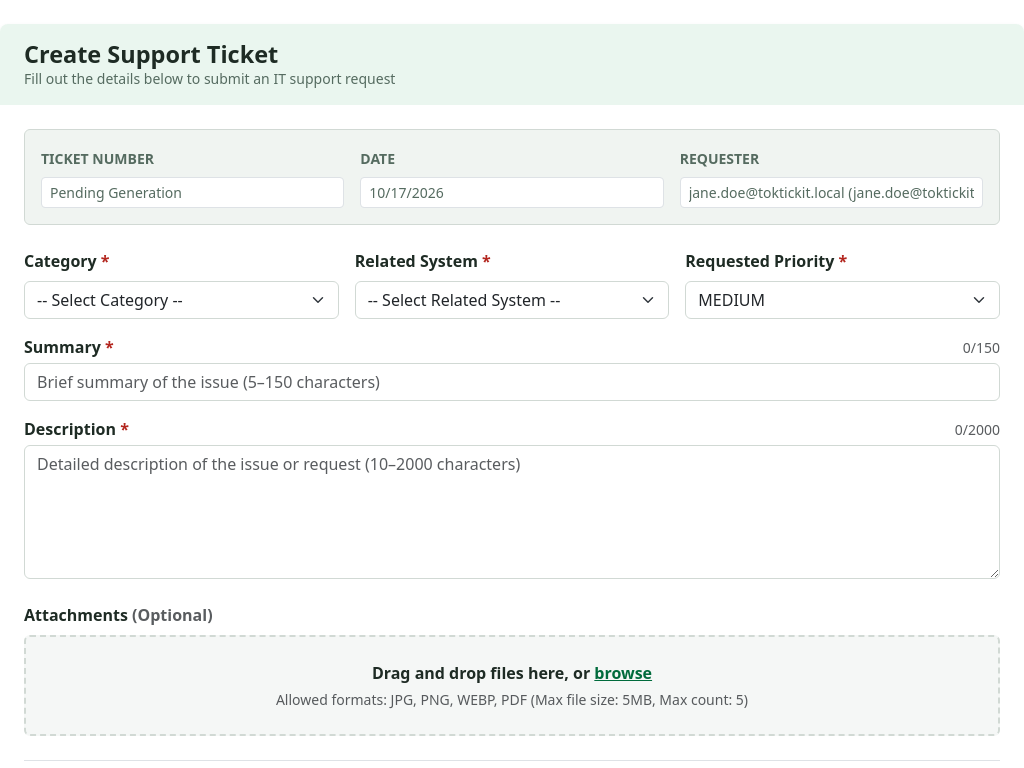
CreateTicket UI Component (Lab 2 — GitHub Issue #4) › UI-04: successfully submits ticket with correct payload and shows success feedback
Select "Hardware" in the dropdown labelled "Category *": (181, 300) [24, 281, 339, 319]
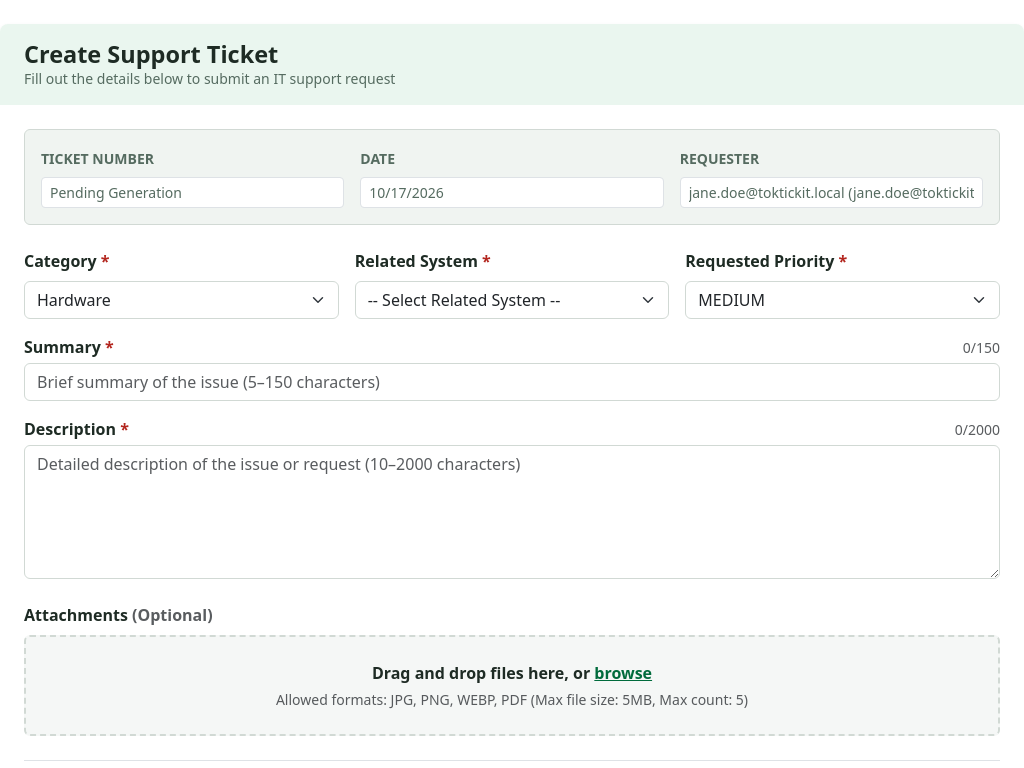
Select "Email System" in the dropdown labelled "Related System *": (512, 300) [355, 281, 669, 319]
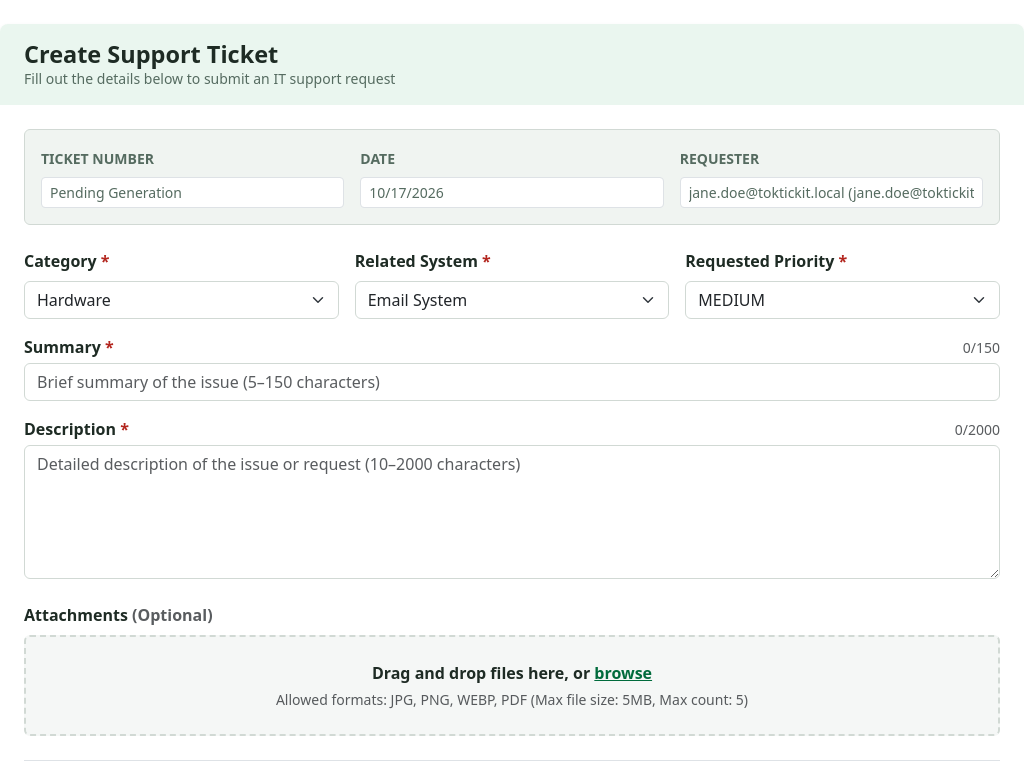
Select "HIGH" in the dropdown labelled "Requested Priority *": (843, 300) [685, 281, 1000, 319]
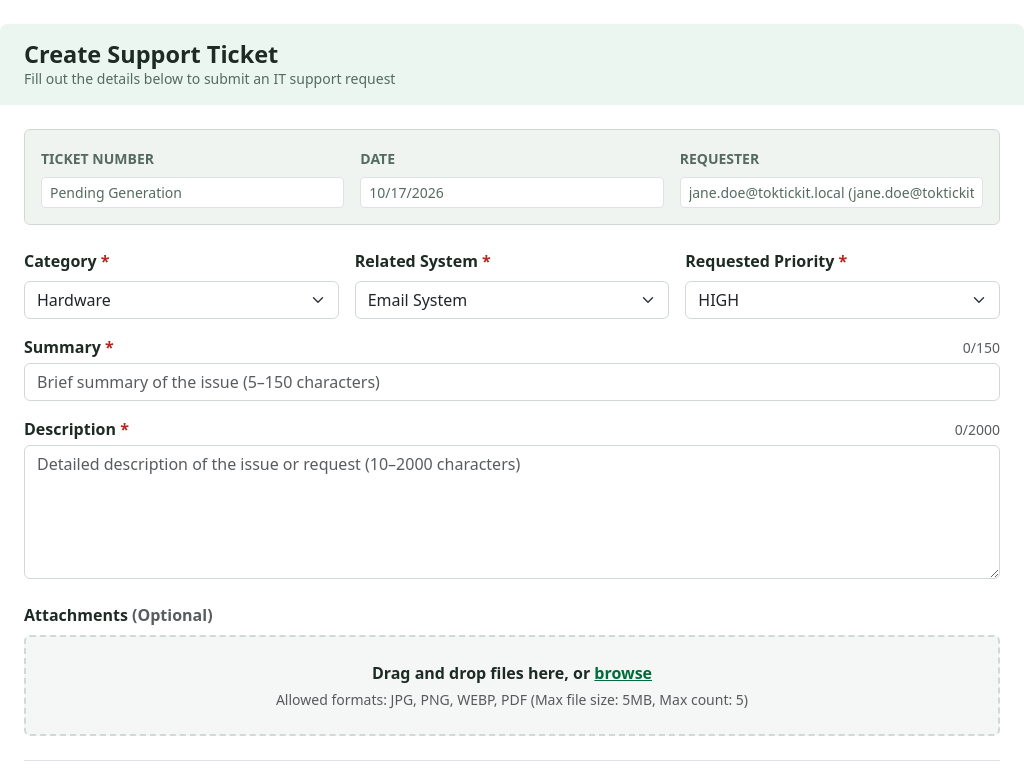
In the field with placeholder "Brief summary of the issue (5–150 characters)": (512, 382) [24, 363, 1000, 401], type "Laptop screen flickering randomly"
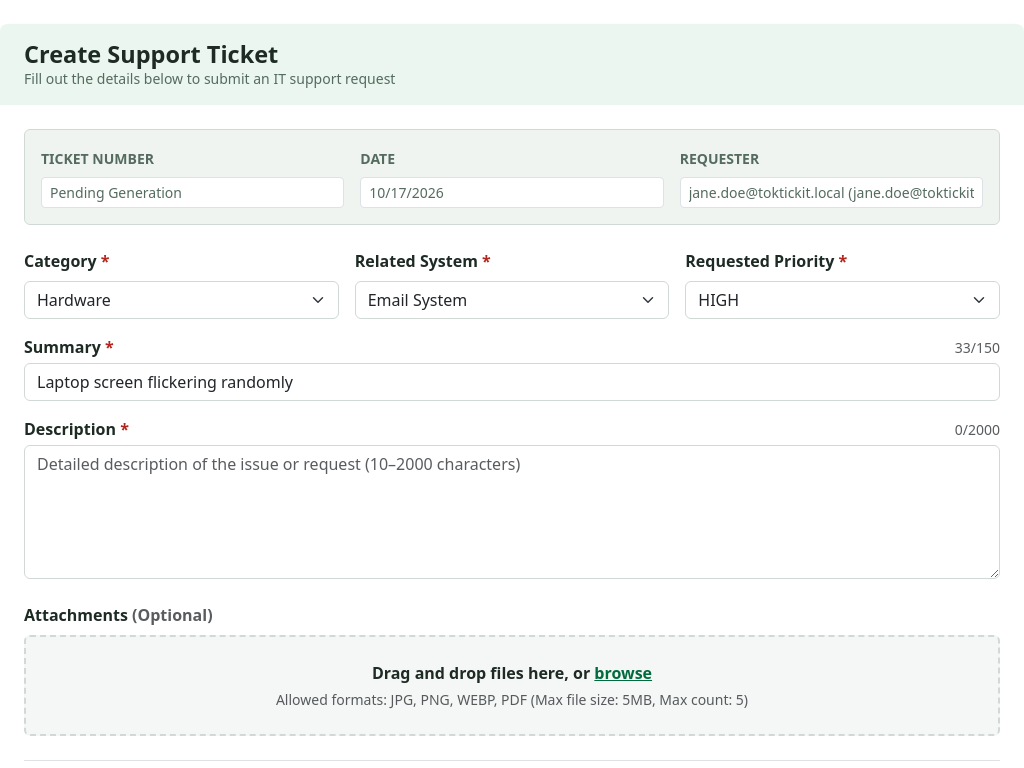
Replace the text in the text box with placeholder "Detailed description" with "The display flickers when opening heavy IDE applications.": (512, 512) [24, 445, 1000, 579]
(page scrolled)
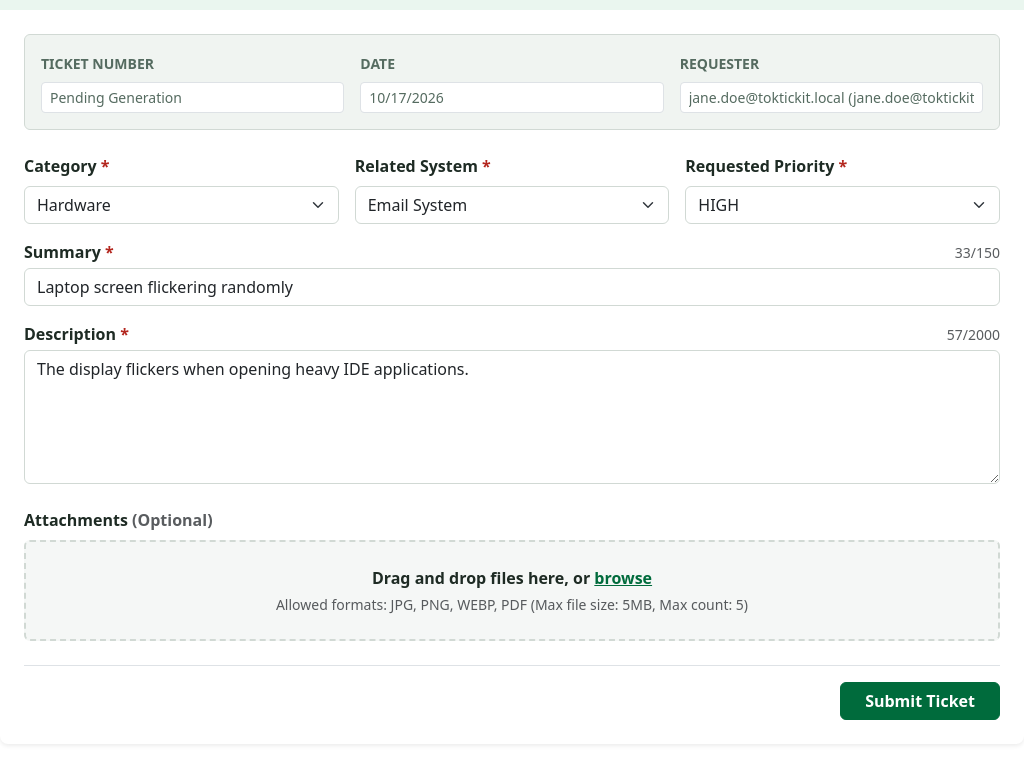
Click the button "Submit Ticket": (920, 701) [840, 682, 1000, 720]
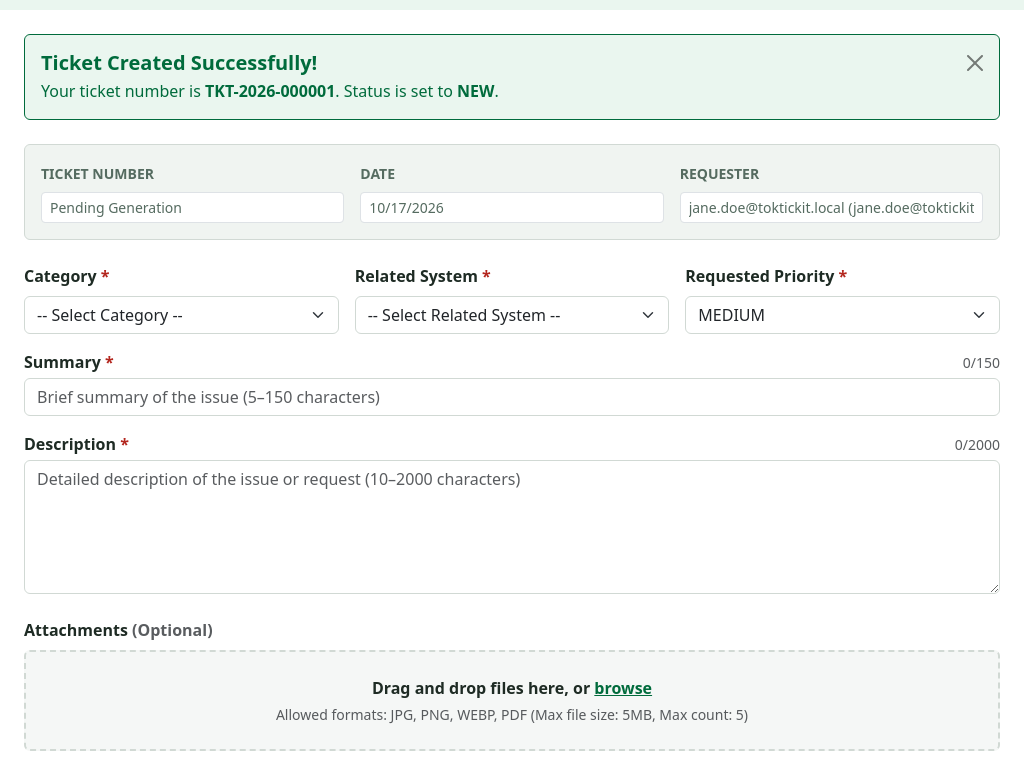
Expected: the heading "Ticket Created Successfully!" is shown, [41, 49, 317, 76]
Expected: the text "TKT-2026-000001" is shown, [205, 80, 335, 102]
Expected: the field with placeholder "Brief summary of the issue (5–150 characters)" is empty, [24, 378, 1000, 416]
